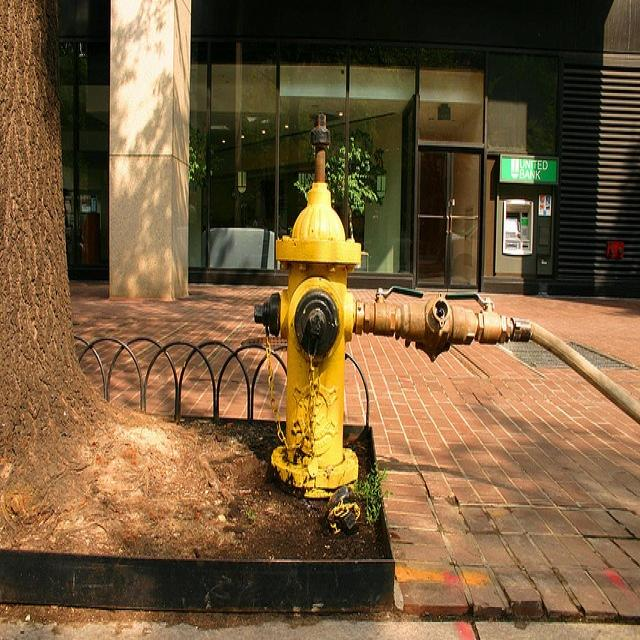fire_hydrant: (251, 111, 369, 530)
